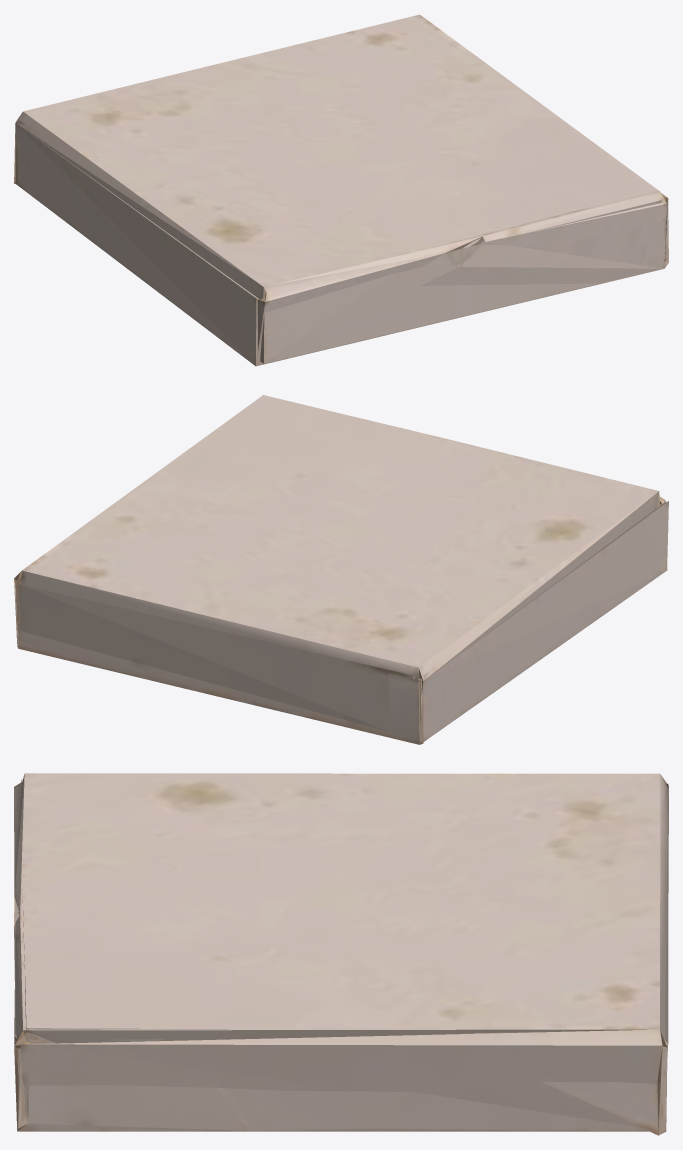
Rendered from pizza-box.glb.
The picture shows the model from 3 angles, top to bottom: view 1: azimuth 30°, elevation 25°; view 2: azimuth 150°, elevation 25°; view 3: azimuth 270°, elevation 25°; orthographic projection. The views are drawn at different scales.
Bounding box in the file's own units: 0.3853 × 0.07 × 0.4013.
Materials: 1 (1 with a texture image).
